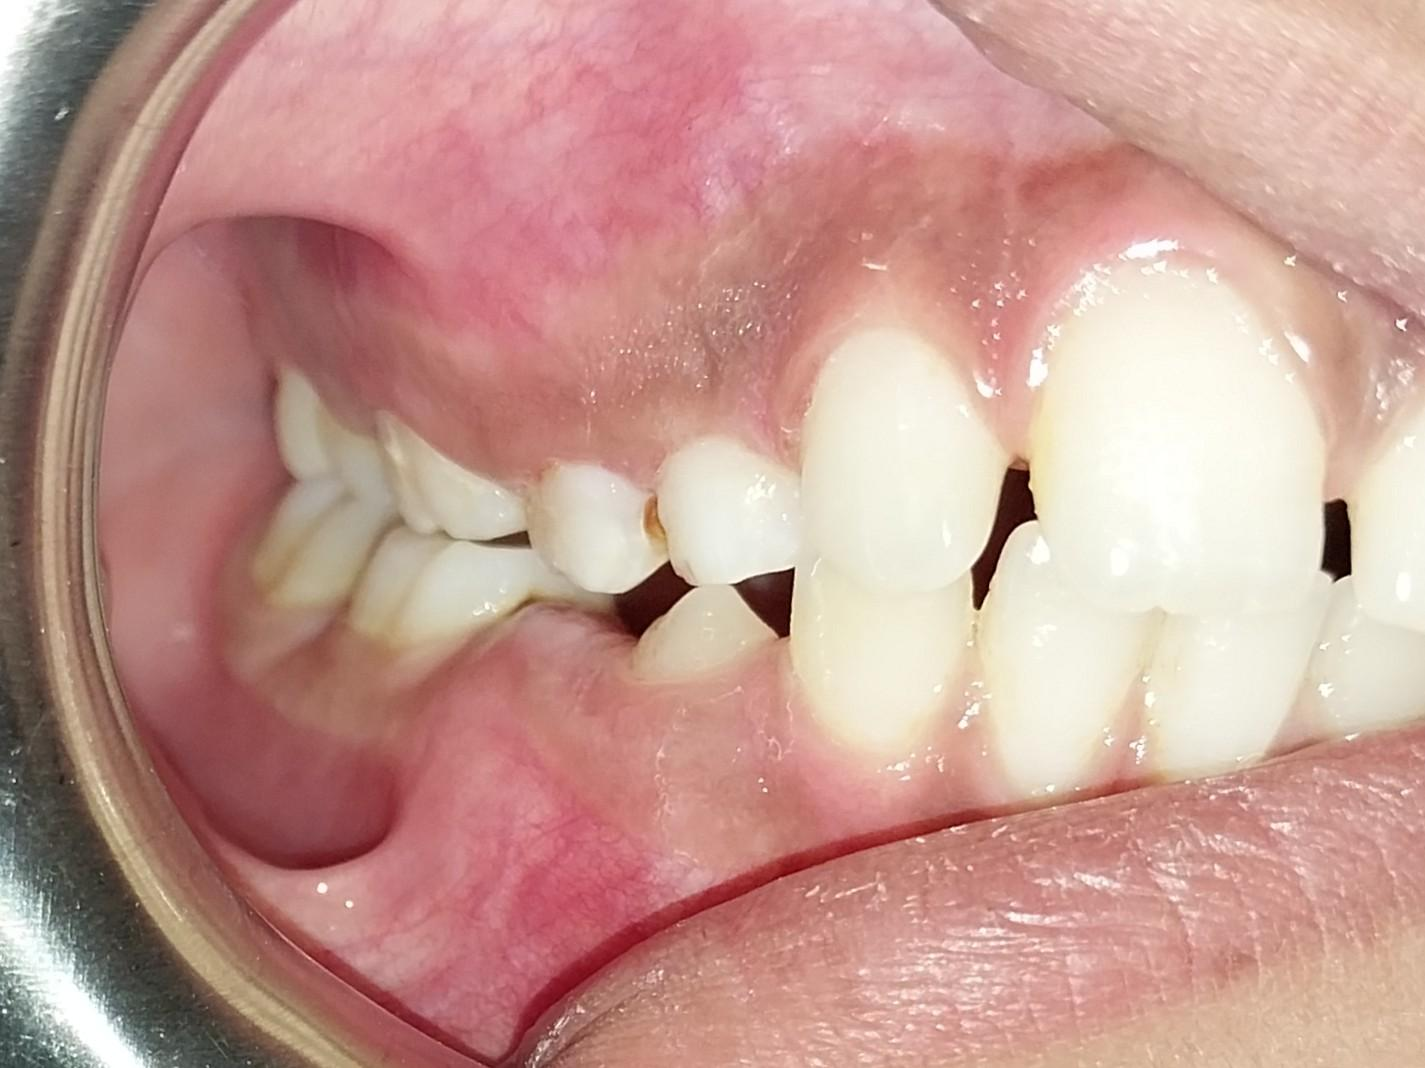d: (517, 469, 671, 597)
